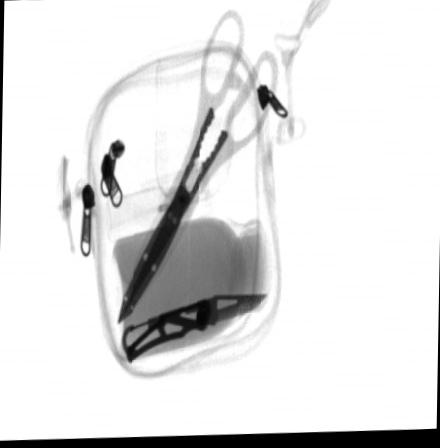Knife: (118, 295, 268, 366)
Scissors: (116, 9, 279, 325)
